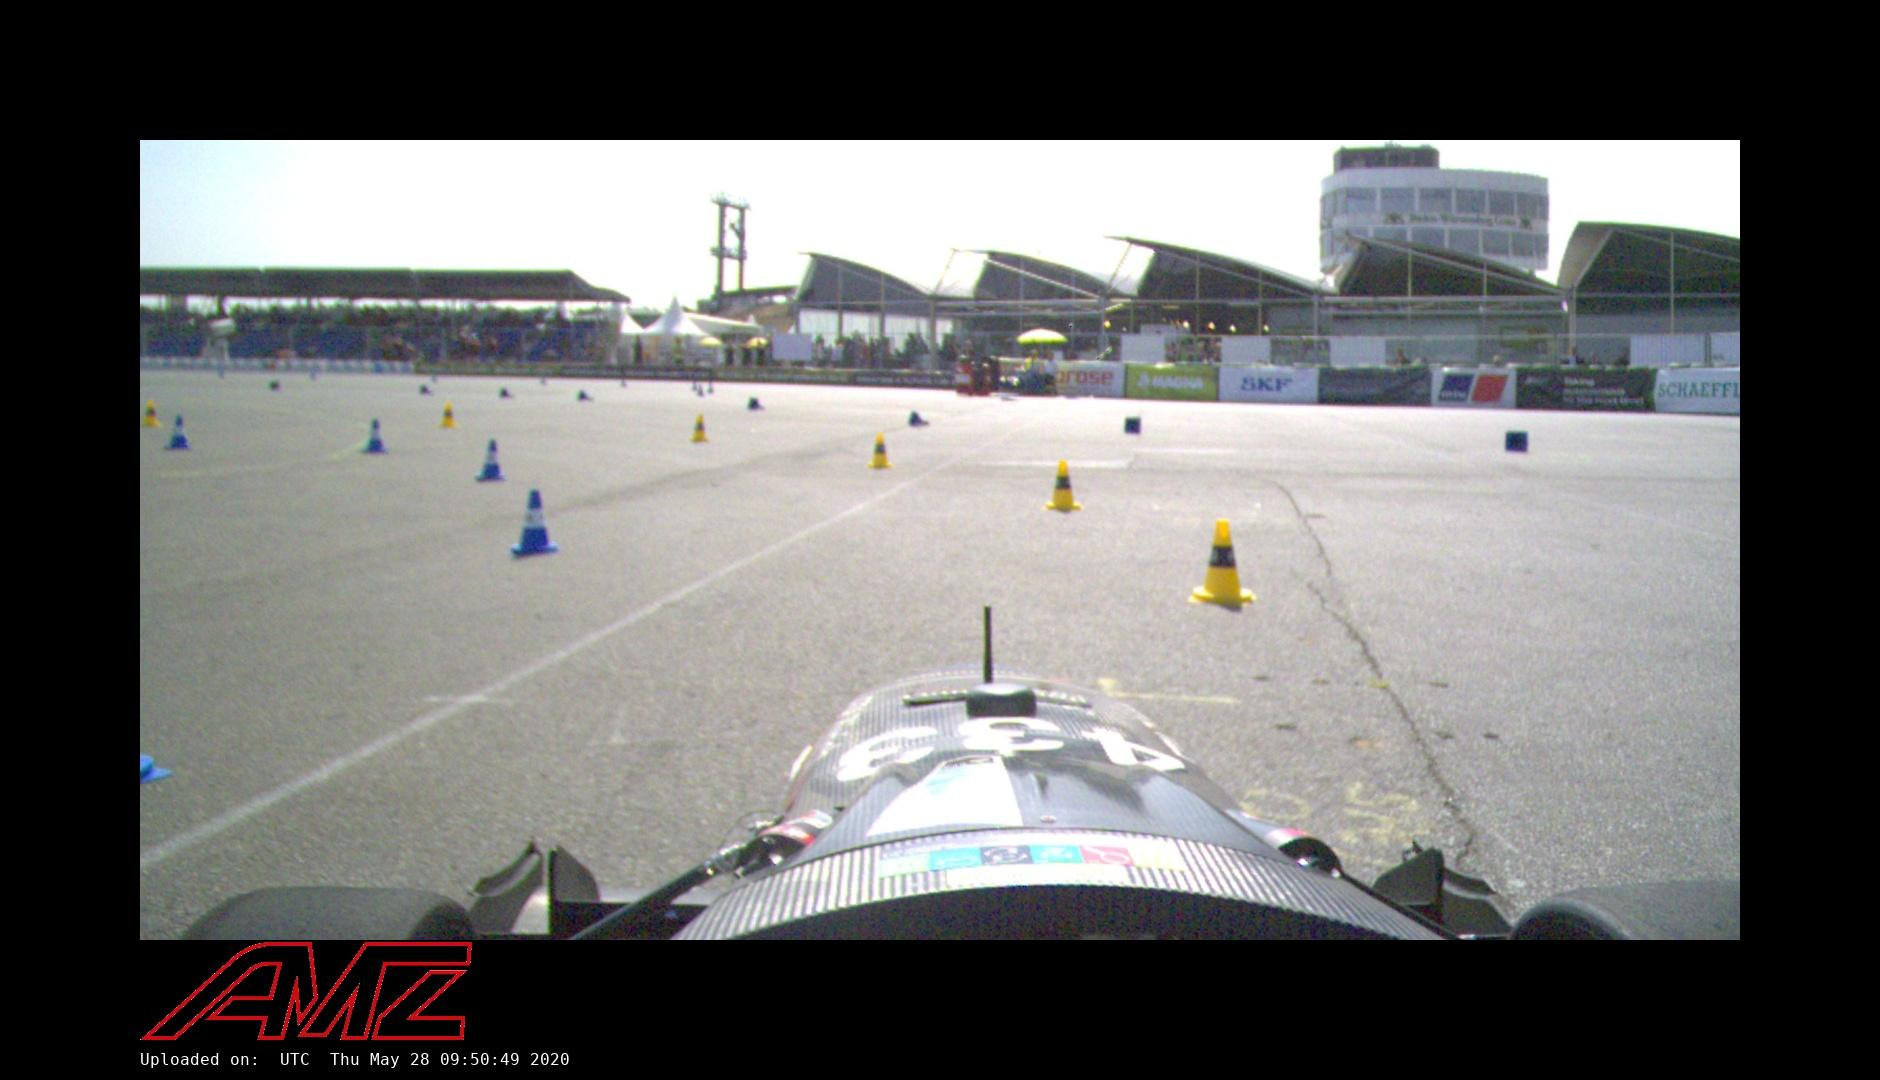blue_cone: (507, 486, 562, 558), (475, 438, 507, 483), (362, 415, 393, 453), (164, 413, 192, 450), (139, 398, 165, 429), (906, 411, 930, 428), (745, 397, 764, 411), (575, 390, 595, 402), (420, 384, 436, 397), (497, 388, 515, 398)
yellow_cone: (1190, 518, 1256, 605), (1042, 460, 1085, 512), (865, 431, 894, 470), (436, 400, 458, 429), (688, 413, 709, 443)
